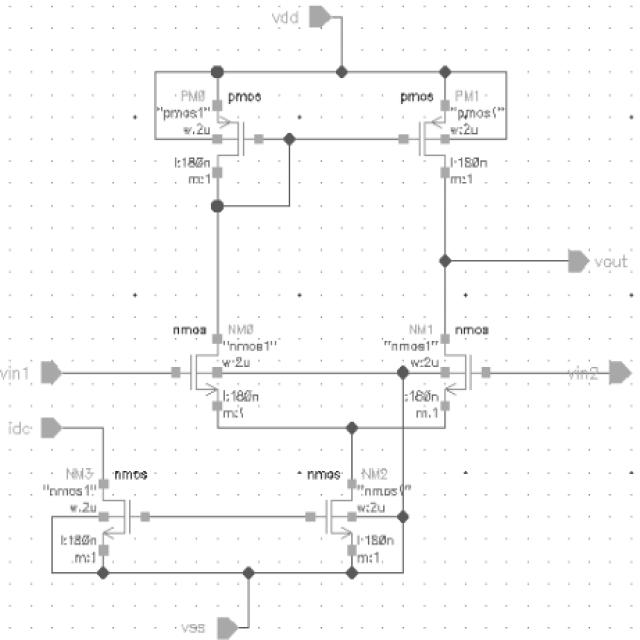nmos: (99, 470, 158, 558), (437, 326, 498, 406), (300, 469, 358, 551), (170, 320, 222, 406)
pmos: (207, 85, 275, 184), (390, 87, 452, 182)
